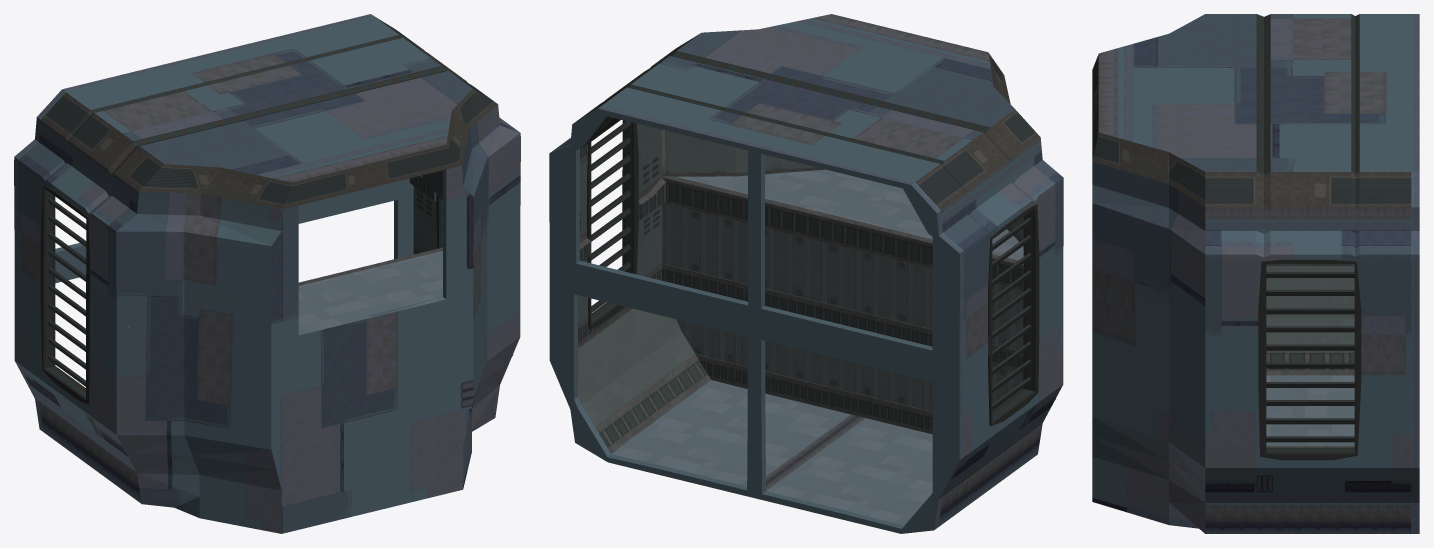
Rendered from mdlLoadingBayFinal.fbx.
3 renders of one model, left to right at view 1: azimuth 30°, elevation 25°; view 2: azimuth 150°, elevation 25°; view 3: azimuth 270°, elevation 25°, orthographic. The views are drawn at different scales.
Parts seen in each view (by area): view 1: LoadingBay; view 2: LoadingBay; view 3: LoadingBay.
Part boxes in pixels (<box>): LoadingBay: <box>14,14,520,533</box>; LoadingBay: <box>549,14,1063,533</box>; LoadingBay: <box>1092,14,1419,533</box>.
Size of the model in its own units: 14463 by 11750 by 9606.
